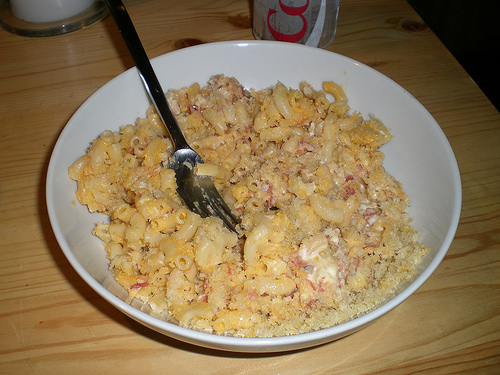macncheese: (57, 66, 428, 347)
